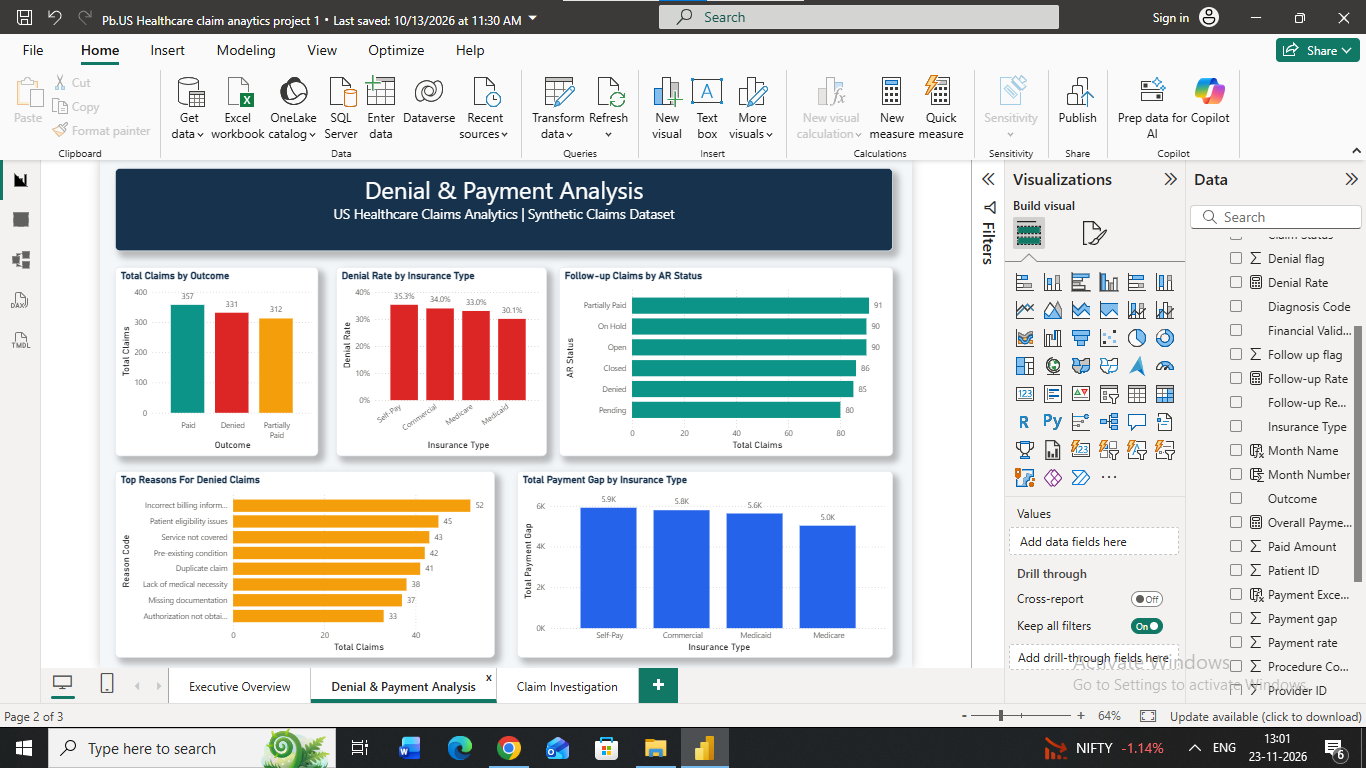

What the dashboard file says about the page in this screenshot:
{"tool":"powerbi","page":{"name":"Denial & Payment Analysis","canvas":[1280,800],"ordinal":1},"visuals":[{"type":"clusteredColumnChart","fields":{"Category":["claim_data.Outcome"],"Y":["claim_data.Total Claims"]},"box":[23.6,168.5,319.7,297.6],"z":0},{"type":"clusteredBarChart","title":"Top Reasons For Denied Claims","fields":{"Category":["claim_data.Reason Code"],"Y":["claim_data.Total Claims"]},"box":[23.6,489.8,598.4,294.5],"z":1000},{"type":"clusteredColumnChart","fields":{"Category":["claim_data.Insurance Type"],"Y":["claim_data.Denial Rate"]},"box":[371.7,168.5,332.3,297.6],"z":2000},{"type":"clusteredColumnChart","fields":{"Category":["claim_data.Insurance Type"],"Y":["claim_data.Total Payment Gap"]},"box":[656.7,489.8,592.1,294.5],"z":3000},{"type":"clusteredBarChart","title":"Follow-up Claims by AR Status","fields":{"Category":["claim_data.AR Status"],"Y":["claim_data.Total Claims"]},"box":[722.8,168.5,526,297.6],"z":4000},{"type":"textbox","box":[23.6,12.6,1225.2,130.7],"z":5000}]}

Visuals, with their boxes on the page's 1280x800 design canvas (x1, y1, x2, y2). These are canvas units, not pixel positions in the 1366x768 screenshot, which may show the page scaled, cropped or inside an application window:
clusteredColumnChart - claim_data.Outcome x claim_data.Total Claims: [x1=24, y1=168, x2=343, y2=466]
"Top Reasons For Denied Claims" clusteredBarChart: [x1=24, y1=490, x2=622, y2=784]
clusteredColumnChart - claim_data.Insurance Type x claim_data.Denial Rate: [x1=372, y1=168, x2=704, y2=466]
clusteredColumnChart - claim_data.Insurance Type x claim_data.Total Payment Gap: [x1=657, y1=490, x2=1249, y2=784]
"Follow-up Claims by AR Status" clusteredBarChart: [x1=723, y1=168, x2=1249, y2=466]
textbox: [x1=24, y1=13, x2=1249, y2=143]
